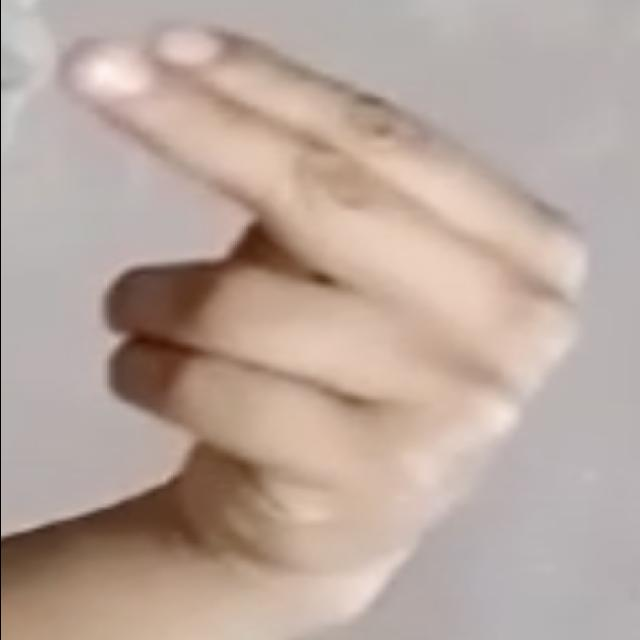N: (45, 19, 610, 590)
